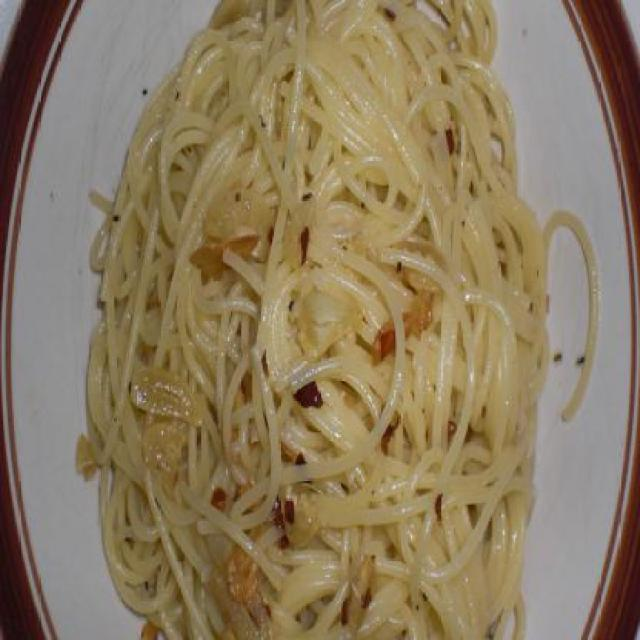Oil pasta: (66, 4, 614, 638)
